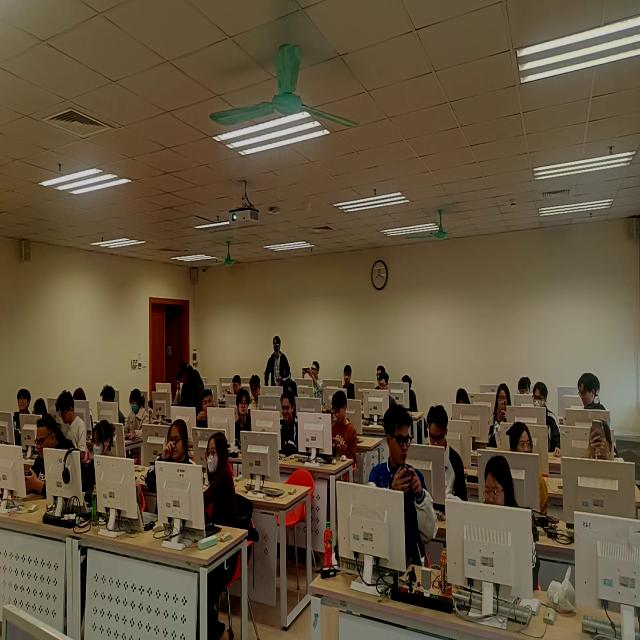raise_head: (147, 416, 198, 516), (203, 432, 239, 533), (13, 386, 31, 446), (198, 386, 217, 431), (236, 390, 252, 443), (345, 363, 356, 400), (376, 362, 386, 387)
stand: (265, 332, 294, 387), (184, 359, 206, 411)
using_computer: (481, 449, 541, 590), (428, 403, 468, 506), (83, 419, 119, 512), (534, 381, 563, 458), (55, 388, 88, 454), (124, 389, 149, 444), (281, 388, 300, 456), (100, 384, 127, 428), (401, 372, 420, 412), (30, 393, 50, 421), (170, 372, 184, 405), (455, 384, 473, 409), (251, 372, 262, 409), (515, 375, 532, 396), (231, 372, 241, 396)
using_phone: (368, 401, 434, 577), (25, 412, 76, 503), (333, 390, 359, 470), (583, 416, 619, 473), (488, 380, 512, 449), (301, 356, 325, 405)
